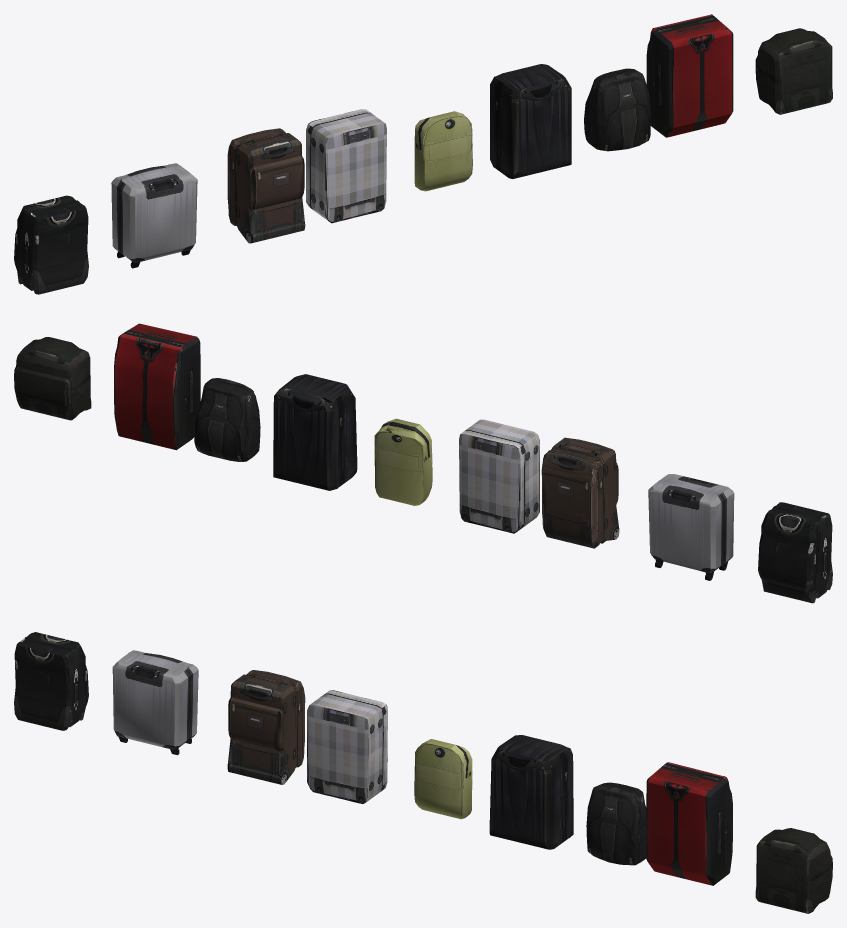
File: suitcases.FBX
3 renders of one model, top to bottom at view 1: azimuth 30°, elevation 25°; view 2: azimuth 150°, elevation 25°; view 3: azimuth 330°, elevation 25°, orthographic.
Visible parts, largest first — view 1: Object02, Object08, Object06, Object01, Object11, Object10, Object07, Object05, Object09; view 2: Object02, Object08, Object06, Object01, Object11, Object10, Object07, Object05, Object09; view 3: Object02, Object08, Object06, Object01, Object11, Object10, Object07, Object05, Object09.
Boxes of the visible parts, x1,y1,x2,y2 form: Object02: (646,14,733,137); Object08: (490,64,571,178); Object06: (306,109,386,223); Object01: (227,128,305,243); Object11: (111,163,197,268); Object10: (14,195,88,294); Object07: (755,28,832,114); Object05: (584,68,650,151); Object09: (414,111,472,191); Object02: (114,323,200,450); Object08: (273,374,357,490); Object06: (459,419,539,533); Object01: (541,437,619,548); Object11: (648,474,734,580); Object10: (758,502,832,603); Object07: (14,337,91,420); Object05: (194,378,260,461); Object09: (374,418,432,505); Object02: (646,762,732,885); Object08: (489,735,573,849); Object06: (307,690,387,803); Object01: (227,670,305,784); Object11: (112,650,198,755); Object10: (14,632,88,730); Object07: (755,828,832,913); Object05: (586,782,646,865); Object09: (414,739,472,819).
Size of the model in its own units: 212 by 25.76 by 12.51.
